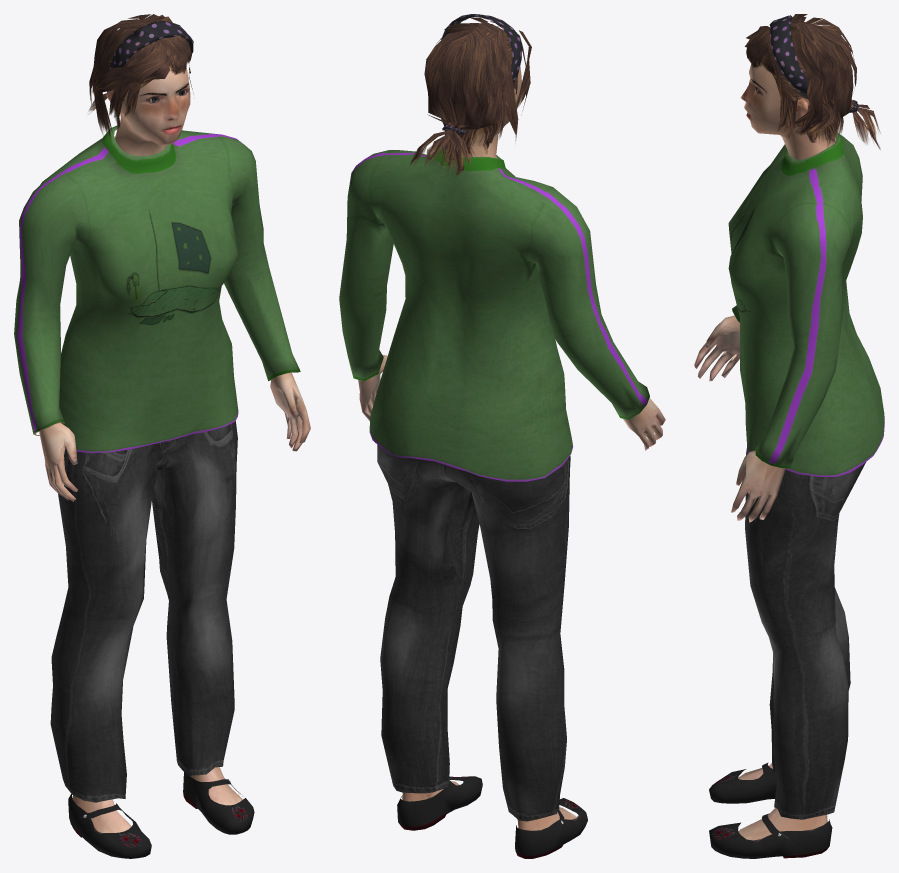
File: woman-casual-cbj_LOD00.gltf
The picture shows the model from 3 angles, left to right: view 1: azimuth 30°, elevation 25°; view 2: azimuth 150°, elevation 25°; view 3: azimuth 270°, elevation 25°; orthographic projection. The views are drawn at different scales.
Visible parts, largest first — view 1: trunk, legs, head, feet; view 2: trunk, legs, head, feet; view 3: trunk, legs, head, feet.
Part boxes in pixels (x1,y1,x2,y2): trunk: (14, 125, 310, 501); legs: (50, 421, 237, 802); head: (88, 14, 193, 155); feet: (68, 767, 254, 858); trunk: (339, 146, 665, 481); legs: (377, 445, 570, 821); head: (409, 14, 531, 177); feet: (397, 776, 587, 858); trunk: (694, 132, 884, 522); legs: (745, 446, 865, 819); head: (740, 14, 880, 160); feet: (709, 763, 832, 858).
Size of the model in its own units: 0.5855 by 1.62 by 0.3484.
